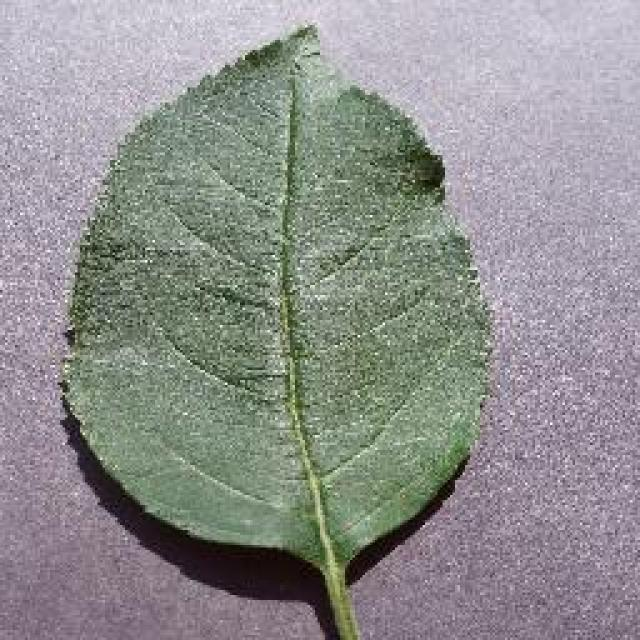Apple___healthy: (45, 12, 507, 640)
